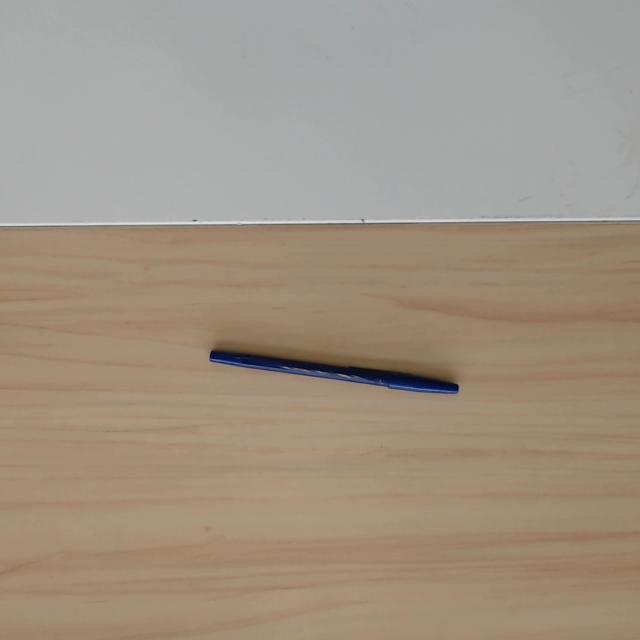Pulpen-Biru: (208, 350, 461, 398)
